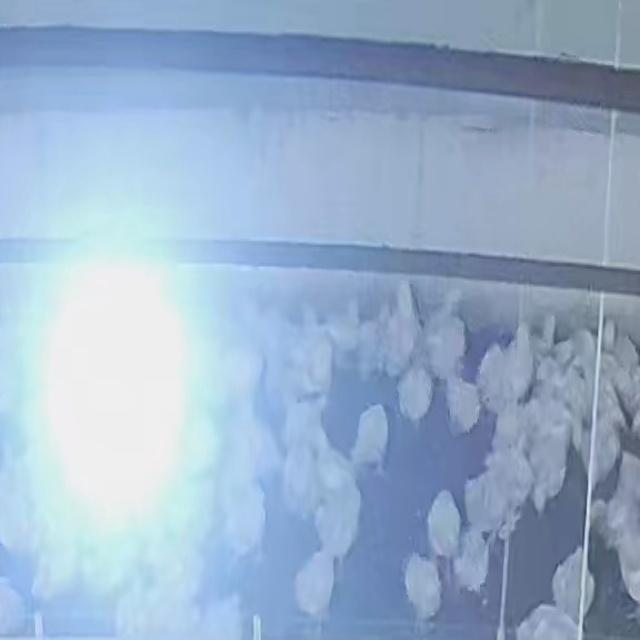chicken: (476, 326, 536, 414), (214, 472, 271, 559), (312, 468, 362, 562), (524, 413, 572, 508), (483, 448, 532, 524), (428, 288, 471, 374), (385, 276, 421, 376), (551, 545, 593, 622), (292, 549, 336, 621), (464, 464, 509, 534), (586, 402, 622, 489), (402, 551, 443, 623), (556, 358, 591, 439), (321, 298, 364, 362), (349, 404, 389, 472), (451, 526, 491, 592), (609, 452, 640, 537), (613, 318, 640, 414), (426, 487, 462, 558), (512, 603, 582, 639), (299, 330, 337, 396), (443, 370, 482, 433), (397, 359, 432, 425), (196, 592, 246, 637), (613, 537, 640, 604), (354, 316, 384, 376), (567, 328, 597, 382), (492, 399, 524, 449)
